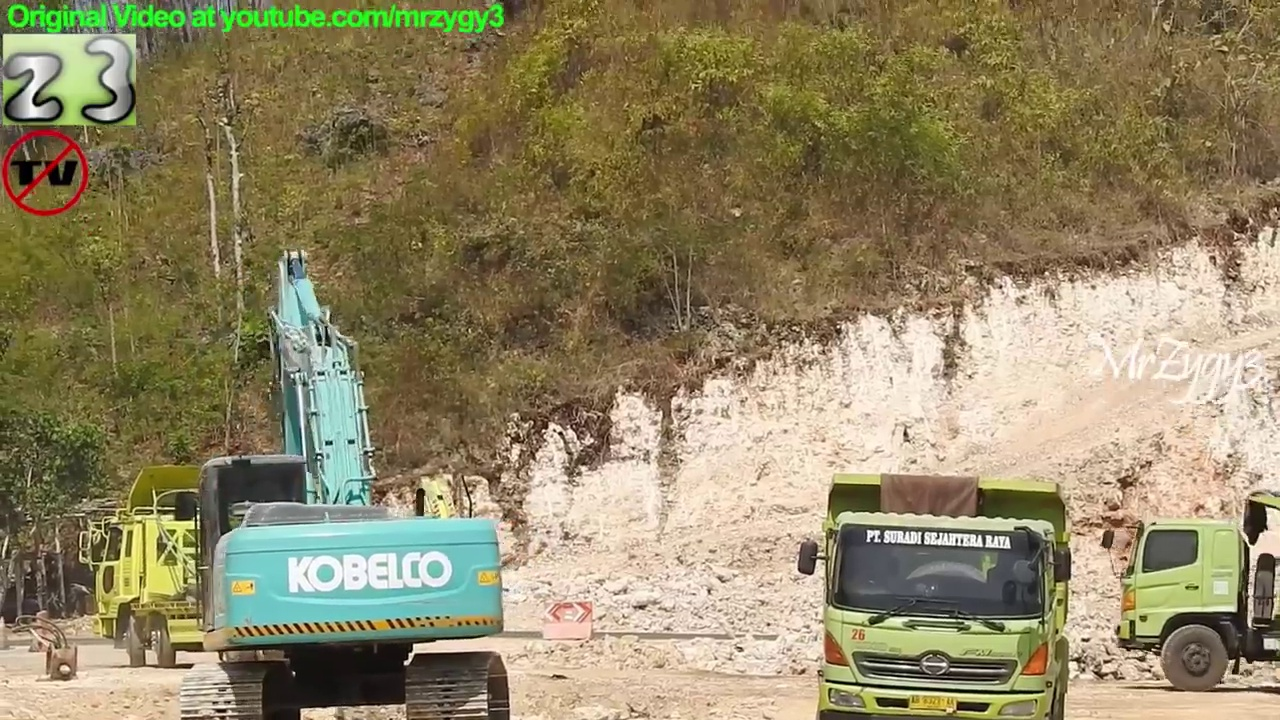excavator: (175, 244, 516, 720)
truck: (71, 461, 485, 669), (795, 465, 1077, 720), (1096, 486, 1280, 694)
